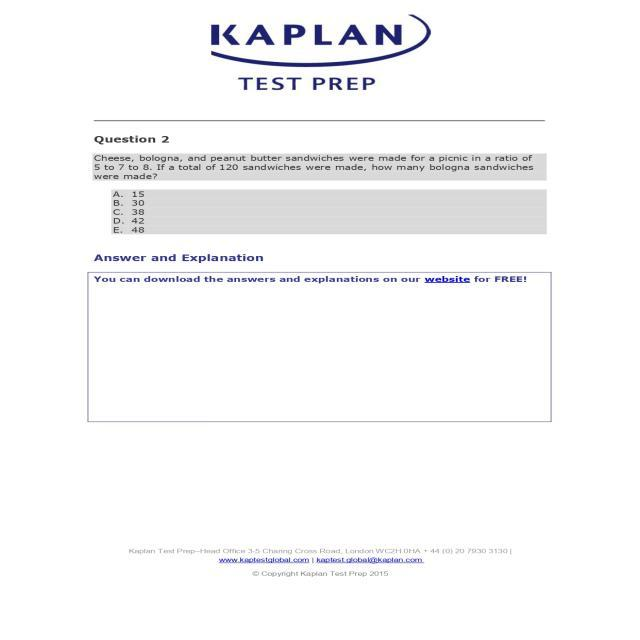Answer_Block: (107, 186, 552, 234)
Description: (82, 252, 553, 430)
Question_Answer_Block: (82, 128, 553, 250), (82, 128, 553, 184)
Question_Paper_Area: (82, 127, 553, 430)
